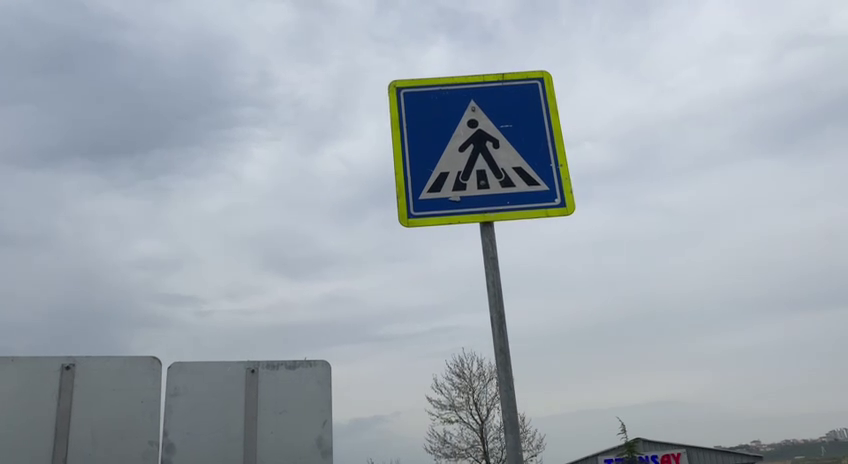pedestrianCrossing: (385, 68, 579, 231)
